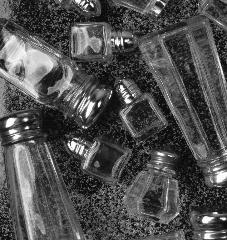glass: (122, 144, 184, 224)
